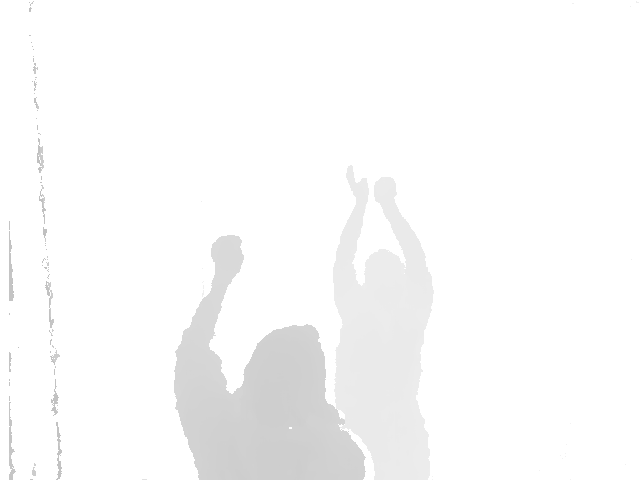hand: (210, 234, 244, 279), (345, 165, 369, 203), (373, 176, 395, 205)
head: (245, 325, 326, 411), (363, 250, 404, 295)
person: (171, 234, 366, 480), (331, 165, 434, 480)
